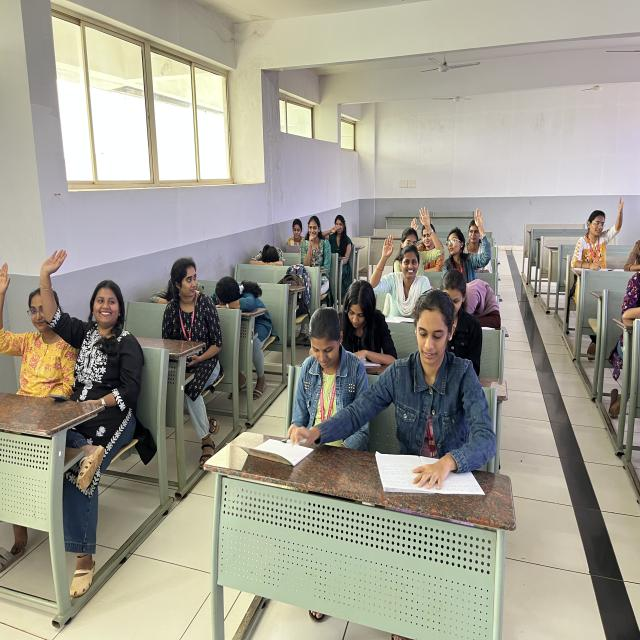Hand Rising: (34, 239, 130, 418), (367, 229, 414, 314), (443, 205, 491, 272), (402, 200, 444, 270)
Reading: (382, 285, 498, 492), (331, 276, 401, 368)
Sleeping: (207, 268, 279, 341), (454, 272, 506, 332), (248, 243, 290, 271)
Using Phone: (162, 256, 226, 377)
